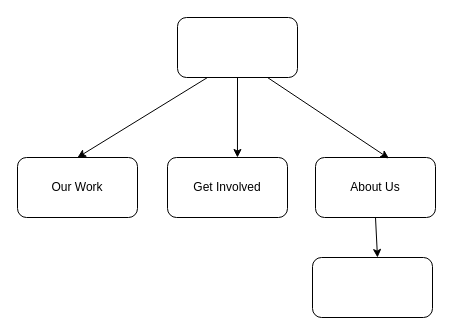
The diagram is 453 pixels wide and 335 high, and some of its shapes have lost their labels. The centre of each missing label's shape, as x and y in pixels:
"Contact Us" goes at point 372,287.
"Homepage" goes at point 237,47.
